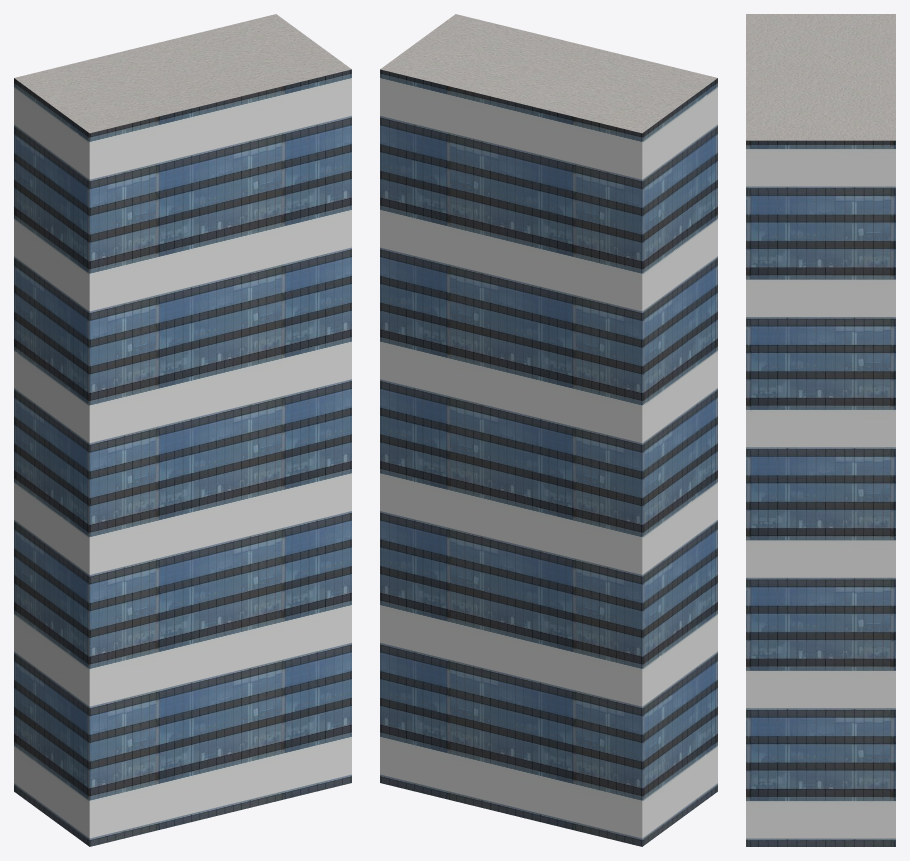
File: Building 8.fbx
3 views of the same model, side by side, from view 1: azimuth 30°, elevation 25°; view 2: azimuth 150°, elevation 25°; view 3: azimuth 270°, elevation 25° (orthographic).
Parts seen in each view (by area): view 1: Building 8; view 2: Building 8; view 3: Building 8.
Part boxes in pixels (bbox=[...]): Building 8: bbox=[14, 14, 351, 846]; Building 8: bbox=[380, 14, 717, 846]; Building 8: bbox=[746, 14, 895, 846].
Bounding box in the file's own units: 1500 × 3900 × 750.
2 materials, 2 textured.
